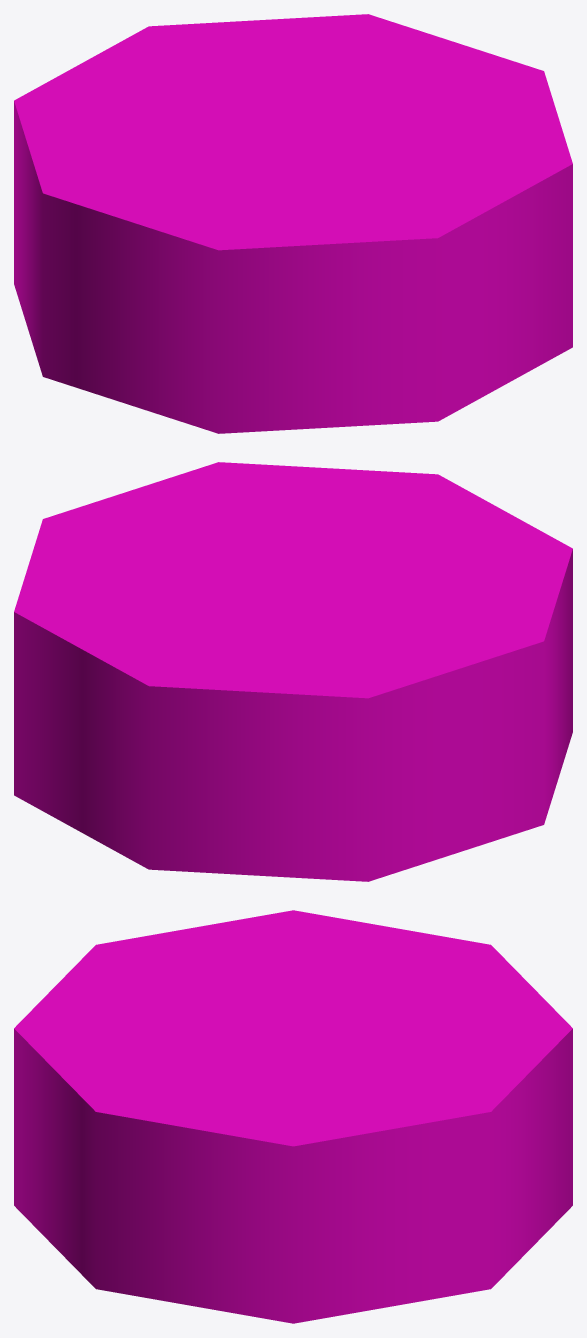
The model's file is prop_tyre_1x1_collider.FBX.
3 views of the same model, one above another, from view 1: azimuth 30°, elevation 25°; view 2: azimuth 150°, elevation 25°; view 3: azimuth 270°, elevation 25° (orthographic). The views are drawn at different scales.
Visible parts, largest first — view 1: prop_tyre_collider; view 2: prop_tyre_collider; view 3: prop_tyre_collider.
Part boxes in pixels (x1=…): prop_tyre_collider: x1=14, y1=14, x2=572, y2=433; prop_tyre_collider: x1=14, y1=462, x2=572, y2=881; prop_tyre_collider: x1=14, y1=910, x2=572, y2=1323.
Bounding box in the file's own units: 32.52 × 11.38 × 32.52.
